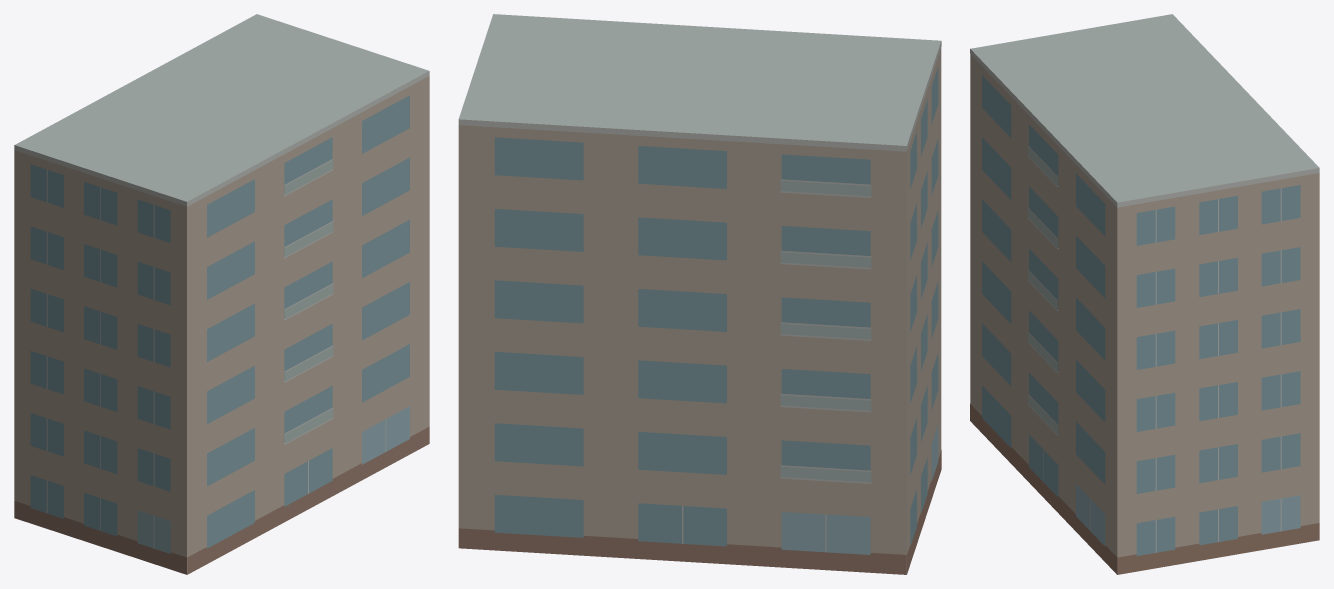
Rendered from survey-upis-32970208.glb.
3 views of the same model, side by side, from view 1: azimuth 30°, elevation 25°; view 2: azimuth 150°, elevation 25°; view 3: azimuth 270°, elevation 25° (orthographic). The views are drawn at different scales.
Parts seen in each view (by area): view 1: survey-upis-32970208.tmp; view 2: survey-upis-32970208.tmp; view 3: survey-upis-32970208.tmp.
Boxes of the visible parts, x1,y1,x2,y2 form: survey-upis-32970208.tmp: [14, 14, 429, 574]; survey-upis-32970208.tmp: [458, 14, 941, 574]; survey-upis-32970208.tmp: [970, 14, 1319, 574].
Bounding box in the file's own units: 19.9 × 18.3 × 15.58.
